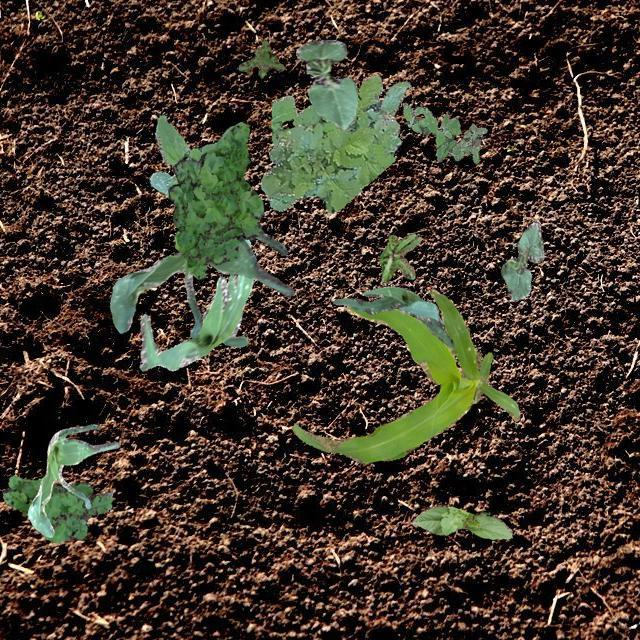crop: (290, 288, 520, 462), (109, 230, 292, 336), (138, 238, 252, 370), (26, 424, 120, 536), (332, 286, 452, 346), (294, 38, 358, 128), (499, 220, 544, 298), (412, 504, 512, 538)
weed: (260, 75, 410, 212), (166, 120, 262, 278), (2, 474, 112, 542), (266, 94, 320, 210), (148, 114, 216, 194), (402, 101, 486, 162), (378, 232, 419, 282), (238, 38, 282, 76)
